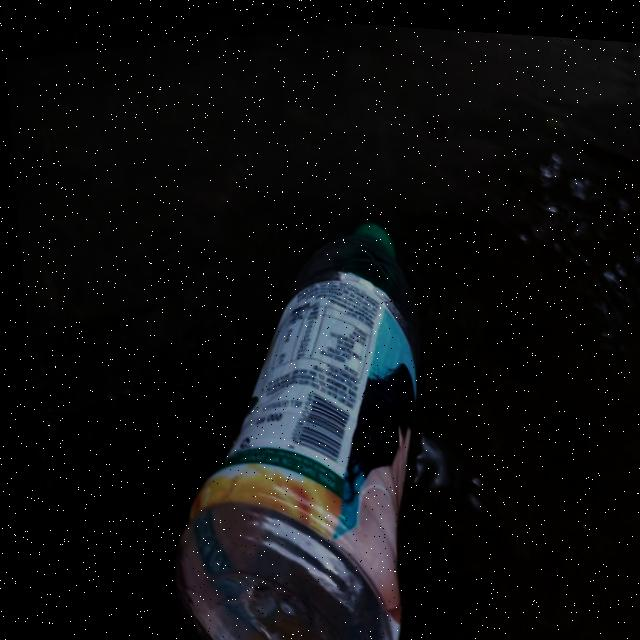leaf: (397, 99, 466, 148)
waterbottle: (138, 188, 455, 640)
